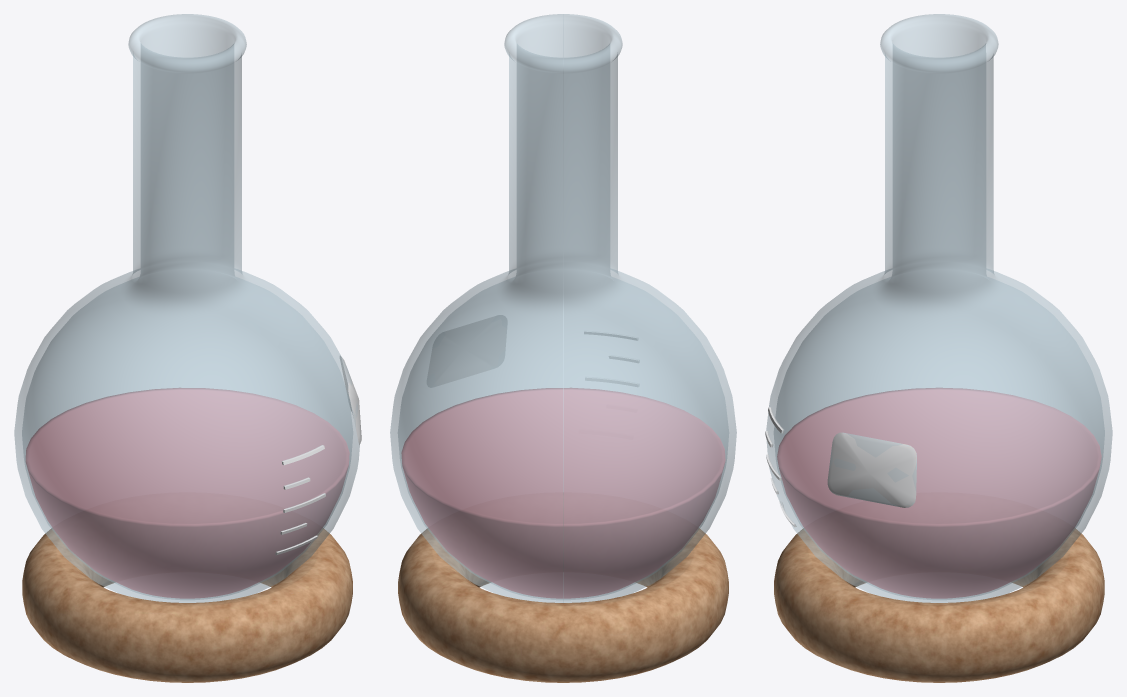
Rendered from flask-round.glb.
The picture shows the model from 3 angles, left to right: view 1: azimuth 30°, elevation 25°; view 2: azimuth 150°, elevation 25°; view 3: azimuth 270°, elevation 25°; orthographic projection.
Parts seen in each view (by area): view 1: round-bottom-flask_flask_glass, round-bottom-flask_liquid_fluid, round-bottom-flask_body; view 2: round-bottom-flask_flask_glass, round-bottom-flask_liquid_fluid, round-bottom-flask_body; view 3: round-bottom-flask_flask_glass, round-bottom-flask_liquid_fluid, round-bottom-flask_body.
Part boxes in pixels (box(x1,y1,x2,y2)): round-bottom-flask_flask_glass: box(14, 14, 359, 602); round-bottom-flask_liquid_fluid: box(25, 387, 349, 598); round-bottom-flask_body: box(22, 355, 361, 682); round-bottom-flask_flask_glass: box(390, 14, 736, 602); round-bottom-flask_liquid_fluid: box(401, 387, 725, 598); round-bottom-flask_body: box(398, 315, 728, 682); round-bottom-flask_flask_glass: box(766, 14, 1112, 602); round-bottom-flask_liquid_fluid: box(777, 387, 1101, 598); round-bottom-flask_body: box(765, 407, 1104, 682).
Bounding box in the file's own units: 0.086 × 0.1609 × 0.0862.
Materials: 3 (1 with a texture image).
